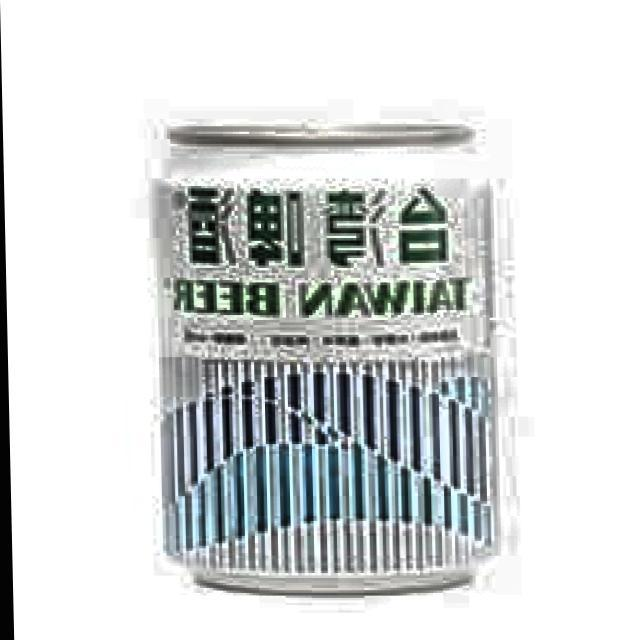litter: (140, 100, 506, 618)
